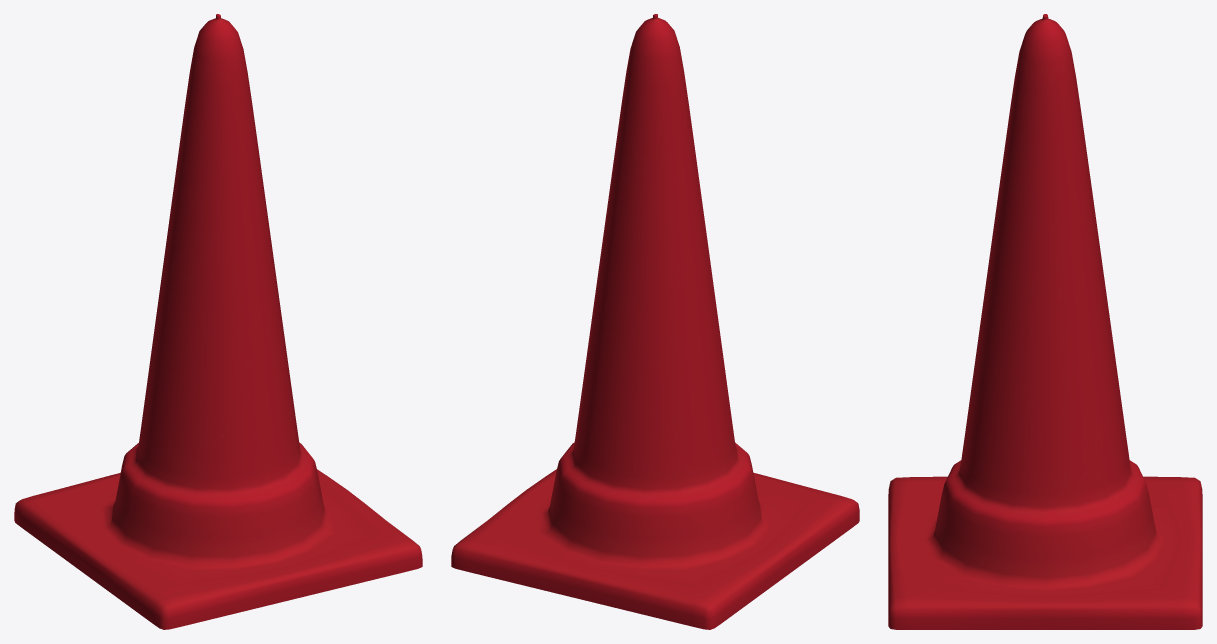
The model's file is ColorCone_Basic_Red_NoWeight.fbx.
3 renders of one model, left to right at view 1: azimuth 30°, elevation 25°; view 2: azimuth 150°, elevation 25°; view 3: azimuth 270°, elevation 25°, orthographic. The views are drawn at different scales.
Parts seen in each view (by area): view 1: ColorCone_Basic_Red_NoWeight; view 2: ColorCone_Basic_Red_NoWeight; view 3: ColorCone_Basic_Red_NoWeight.
Part boxes in pixels (x1,y1,x2,y2): ColorCone_Basic_Red_NoWeight: (14, 14, 422, 629); ColorCone_Basic_Red_NoWeight: (451, 14, 859, 629); ColorCone_Basic_Red_NoWeight: (888, 14, 1202, 629).
Size of the model in its own units: 38 by 38 by 73.14.
1 material, 1 textured.
